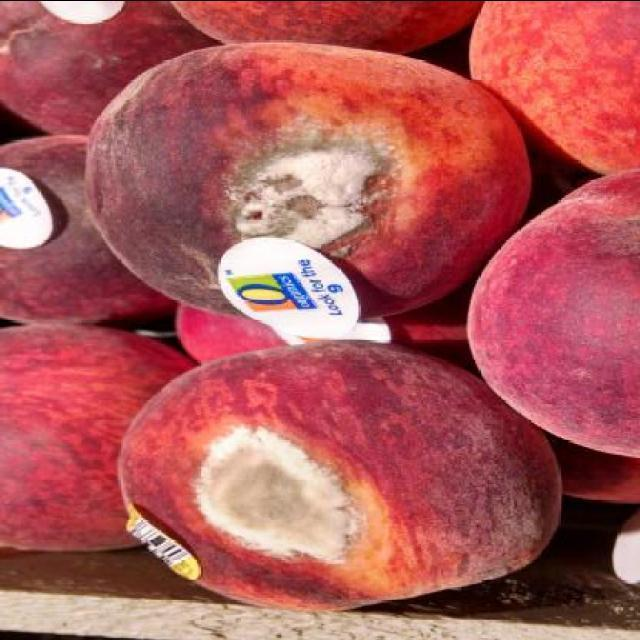Peach: (0, 2, 638, 613)
